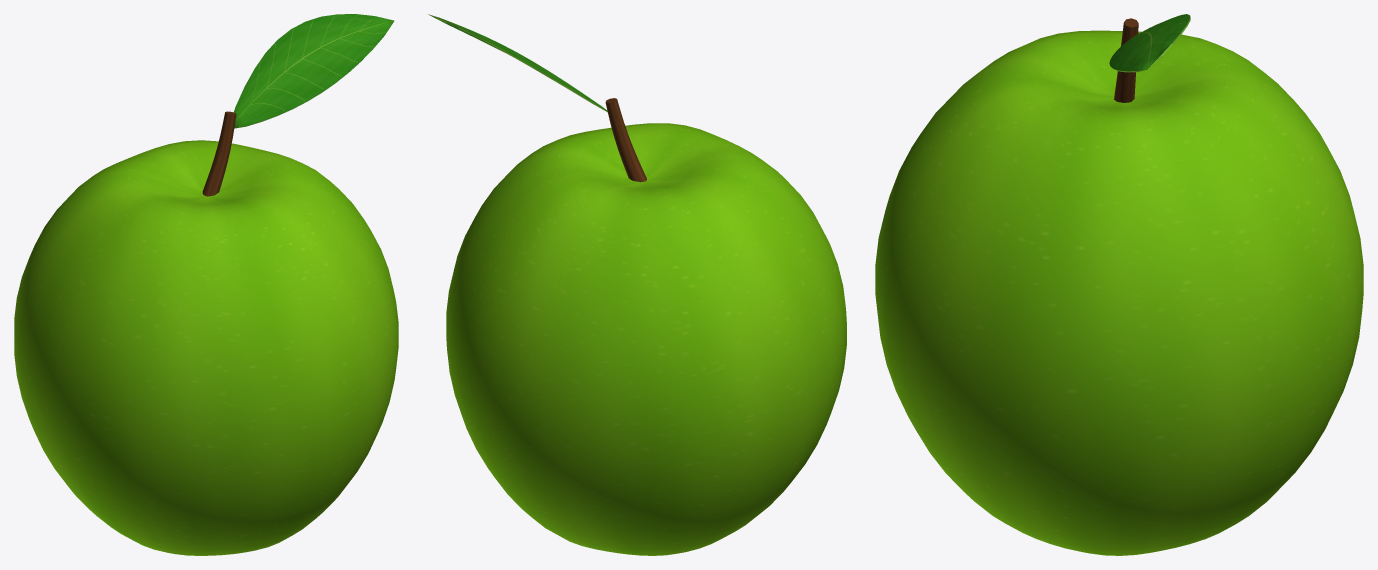
Rendered from green-apple.glb.
The picture shows the model from 3 angles, left to right: view 1: azimuth 30°, elevation 25°; view 2: azimuth 150°, elevation 25°; view 3: azimuth 270°, elevation 25°; orthographic projection. The views are drawn at different scales.
Parts seen in each view (by area): view 1: Apple_Mesh; view 2: Apple_Mesh; view 3: Apple_Mesh.
Boxes of the visible parts, x1=… form: Apple_Mesh: x1=14, y1=14, x2=398, y2=555; Apple_Mesh: x1=428, y1=14, x2=846, y2=555; Apple_Mesh: x1=875, y1=14, x2=1363, y2=555.
Size of the model in its own units: 1.8 by 2.17 by 1.65.
1 material, 1 textured.
